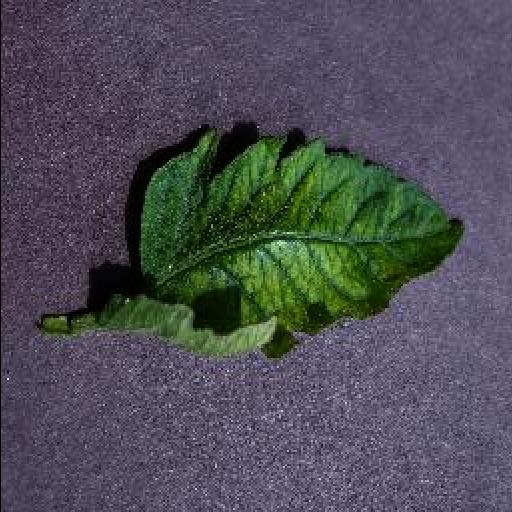Mosaic Virus: (134, 122, 466, 364)
